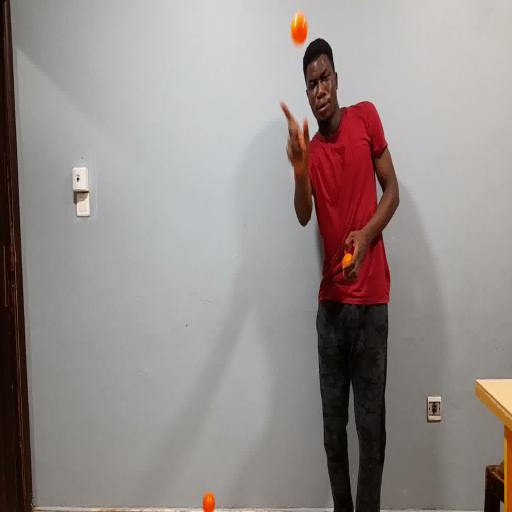plastic-ball: (287, 7, 312, 51)
